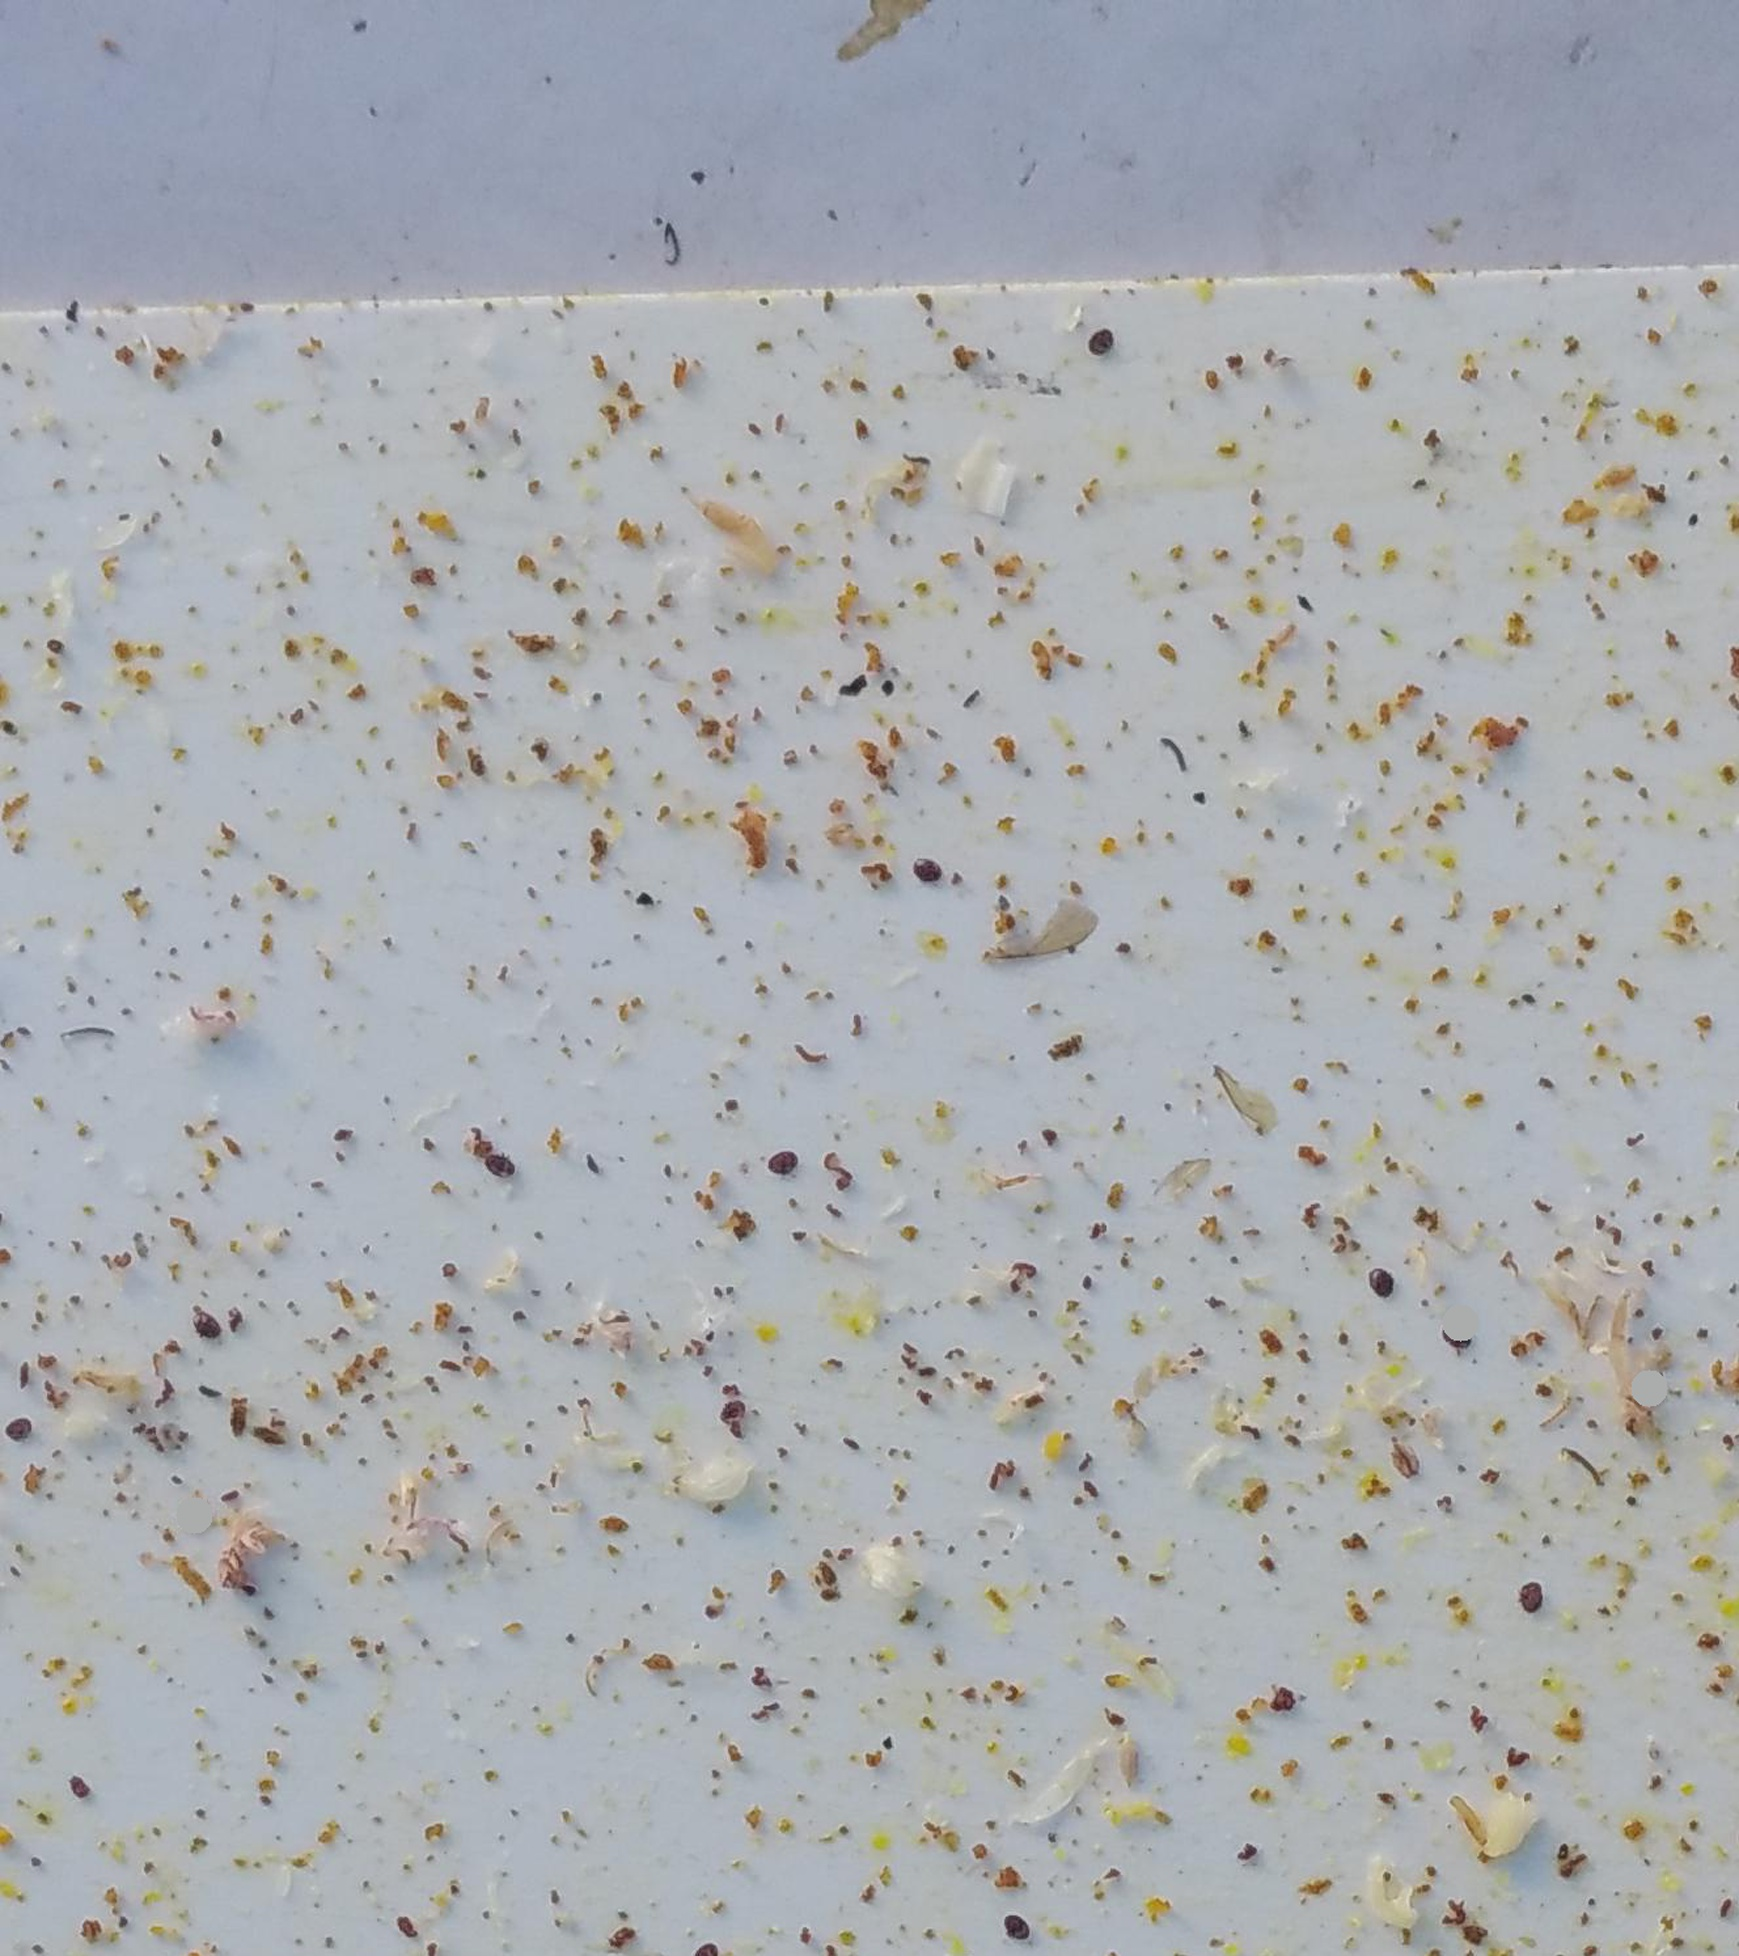Varroa: (720, 1400, 749, 1429), (488, 1145, 515, 1175), (1440, 1328, 1467, 1357), (1363, 1269, 1390, 1296), (916, 855, 943, 880), (770, 1147, 796, 1174), (195, 1315, 222, 1340), (1005, 1916, 1031, 1941), (1519, 1585, 1544, 1608), (1089, 331, 1115, 354), (7, 1417, 32, 1441)
